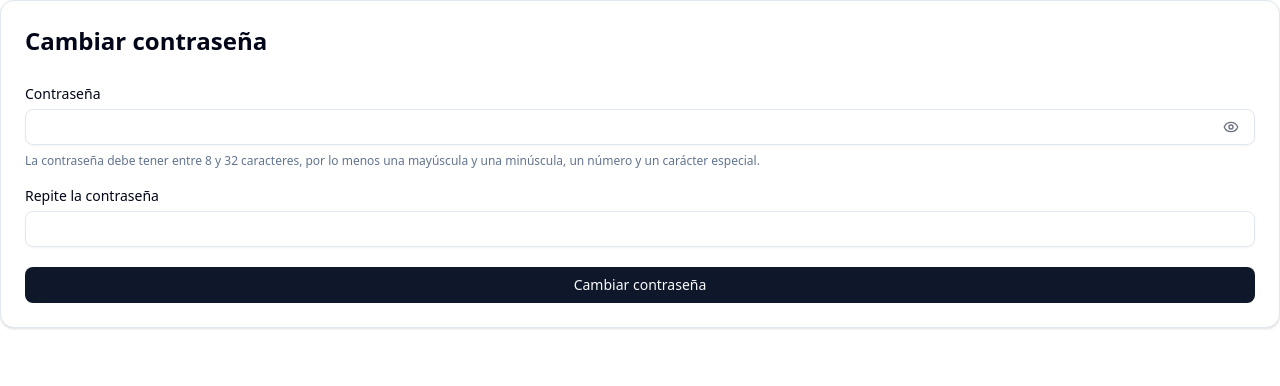
Test: PasswordResetForm › muestra error si el backend retorna un error
Type "Password1!" into the password field labelled "Contraseña".
click(640, 127); type("Password1!")  # box [25,109,1255,145]
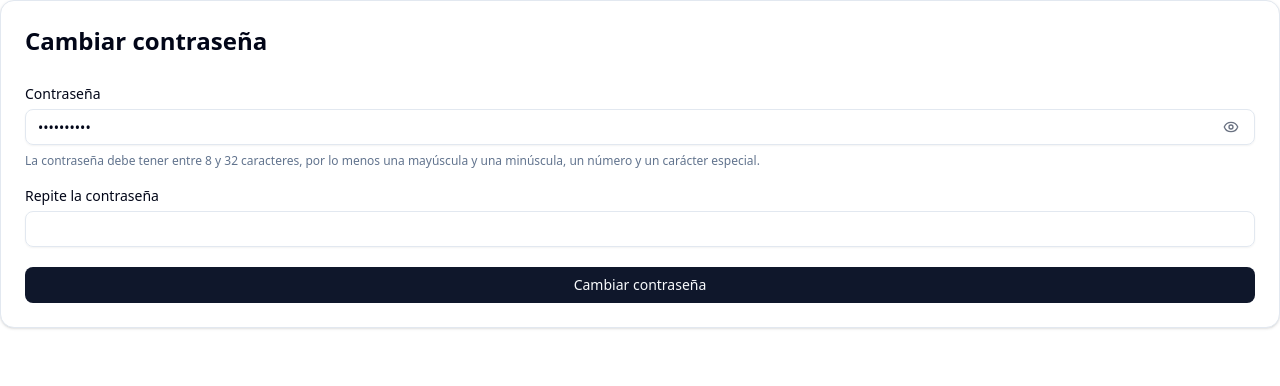
Type "Password1!" into the password field labelled "Repite la contraseña".
click(640, 229); type("Password1!")  # box [25,211,1255,247]
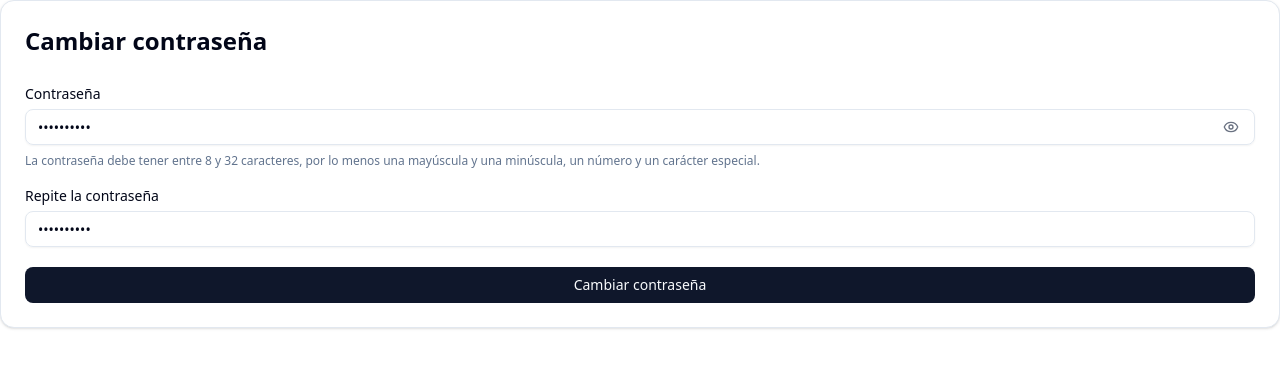
Click the button "Cambiar contraseña".
click(640, 285)  # box [25,267,1255,303]
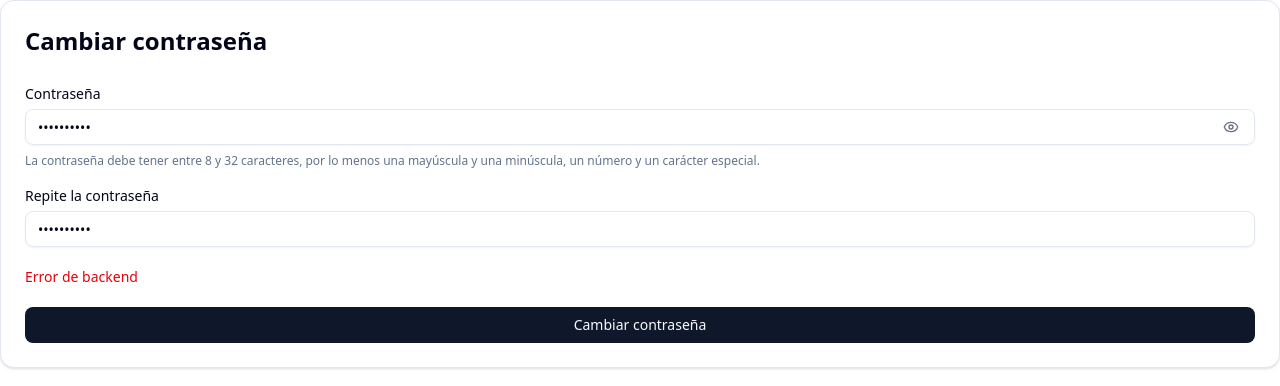
Now the text "Error de backend" is shown, box [25,267,138,286]
